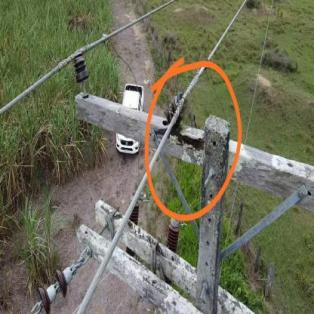Poste: (194, 108, 226, 313)
